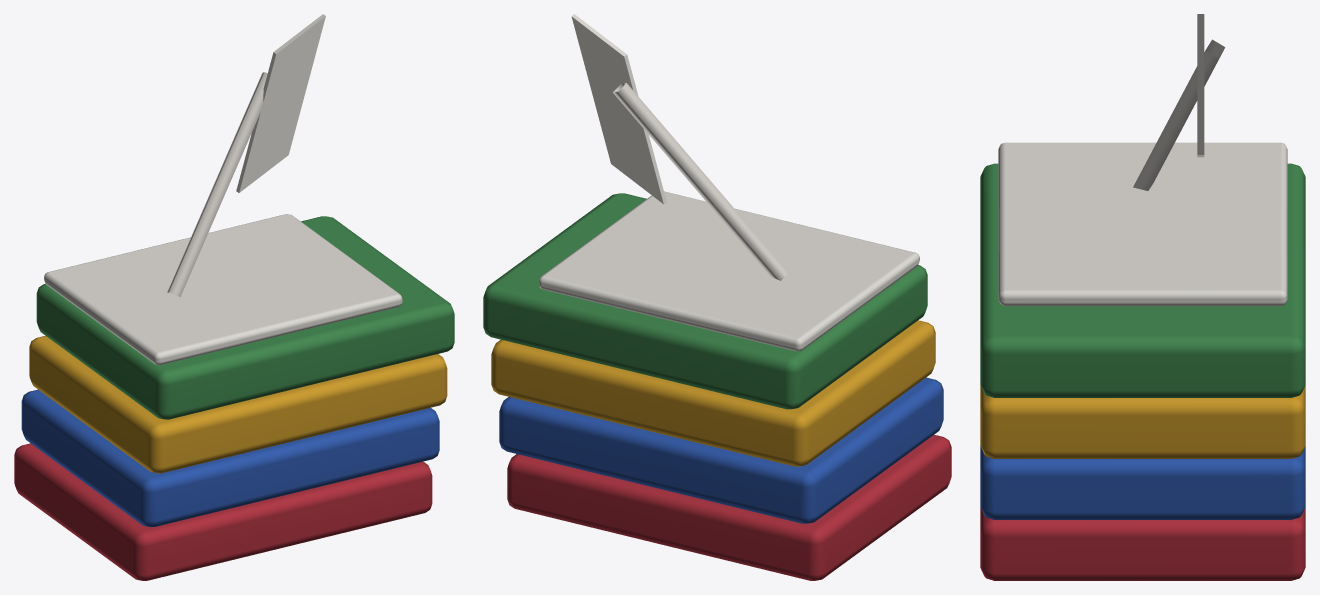
Rendered from furn_sonnet_stack.glb.
The picture shows the model from 3 angles, left to right: view 1: azimuth 30°, elevation 25°; view 2: azimuth 150°, elevation 25°; view 3: azimuth 270°, elevation 25°; orthographic projection. The views are drawn at different scales.
Visible parts, largest first — view 1: furn_sonnet_stack_main; view 2: furn_sonnet_stack_main; view 3: furn_sonnet_stack_main.
Boxes of the visible parts, box(x1,y1,x2,y2) form: furn_sonnet_stack_main: box(14, 14, 454, 580); furn_sonnet_stack_main: box(483, 14, 951, 580); furn_sonnet_stack_main: box(980, 14, 1305, 580).
Size of the model in its own units: 0.258 by 0.34 by 0.18.
